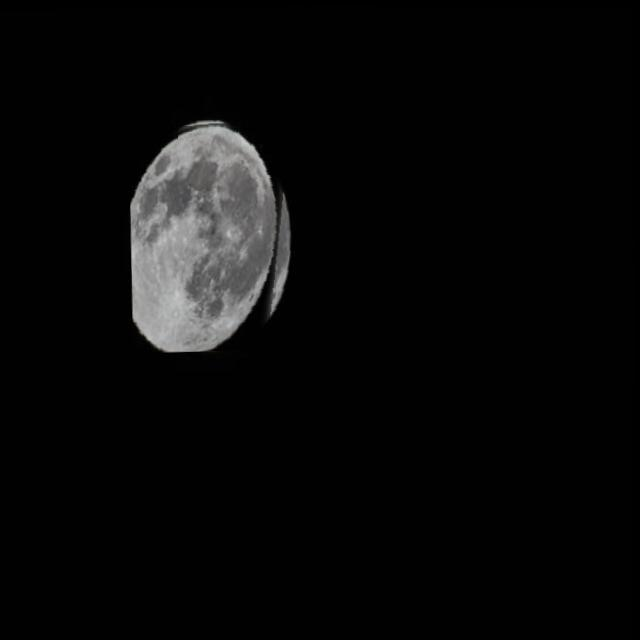moon: (126, 114, 300, 354)
